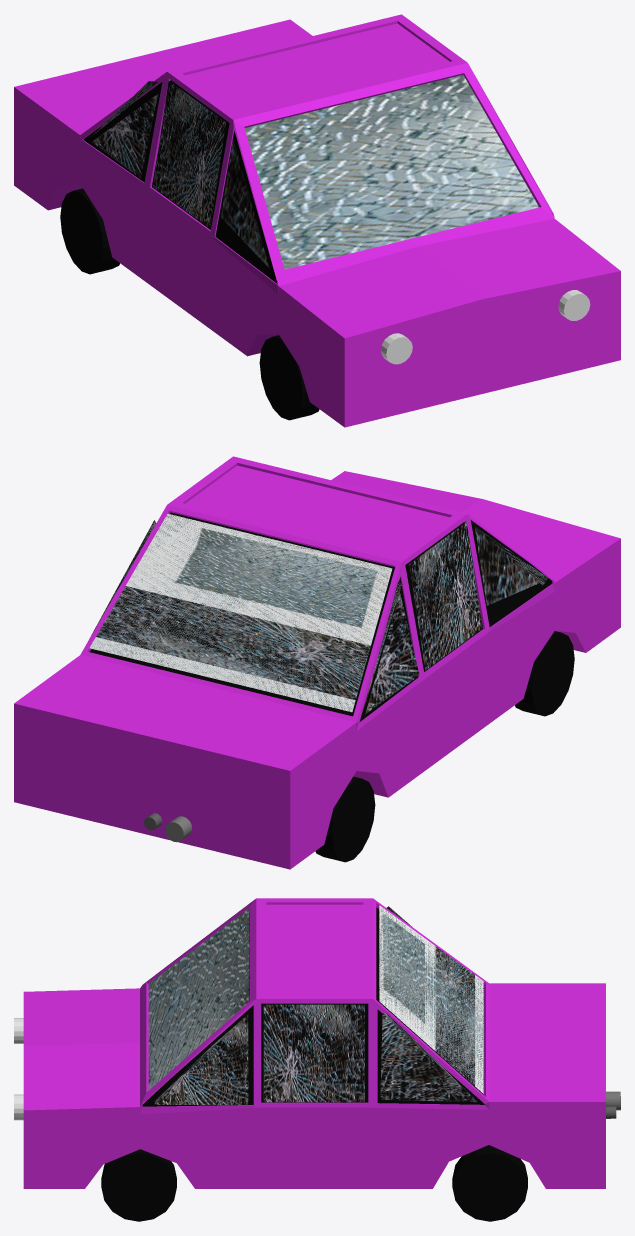
File: CarPurpleStage2.fbx
3 views of the same model, one above another, from view 1: azimuth 30°, elevation 25°; view 2: azimuth 150°, elevation 25°; view 3: azimuth 270°, elevation 25° (orthographic). The views are drawn at different scales.
Visible parts, largest first — view 1: Car, Achteruit kapot, wheels, Headlights; view 2: Car, Achteruit kapot, wheels; view 3: Car, Achteruit kapot, wheels, Headlights.
Boxes of the visible parts, x1,y1,x2,y2 form: Car: [14, 14, 620, 427]; Achteruit kapot: [91, 75, 539, 269]; wheels: [60, 188, 319, 420]; Headlights: [381, 290, 590, 364]; Car: [14, 456, 620, 869]; Achteruit kapot: [89, 513, 548, 713]; wheels: [315, 631, 574, 862]; Car: [23, 898, 605, 1188]; Achteruit kapot: [148, 905, 483, 1104]; wheels: [101, 1145, 527, 1221]; Headlights: [14, 1018, 23, 1120].
Size of the model in its own units: 502 by 415 by 1063.
